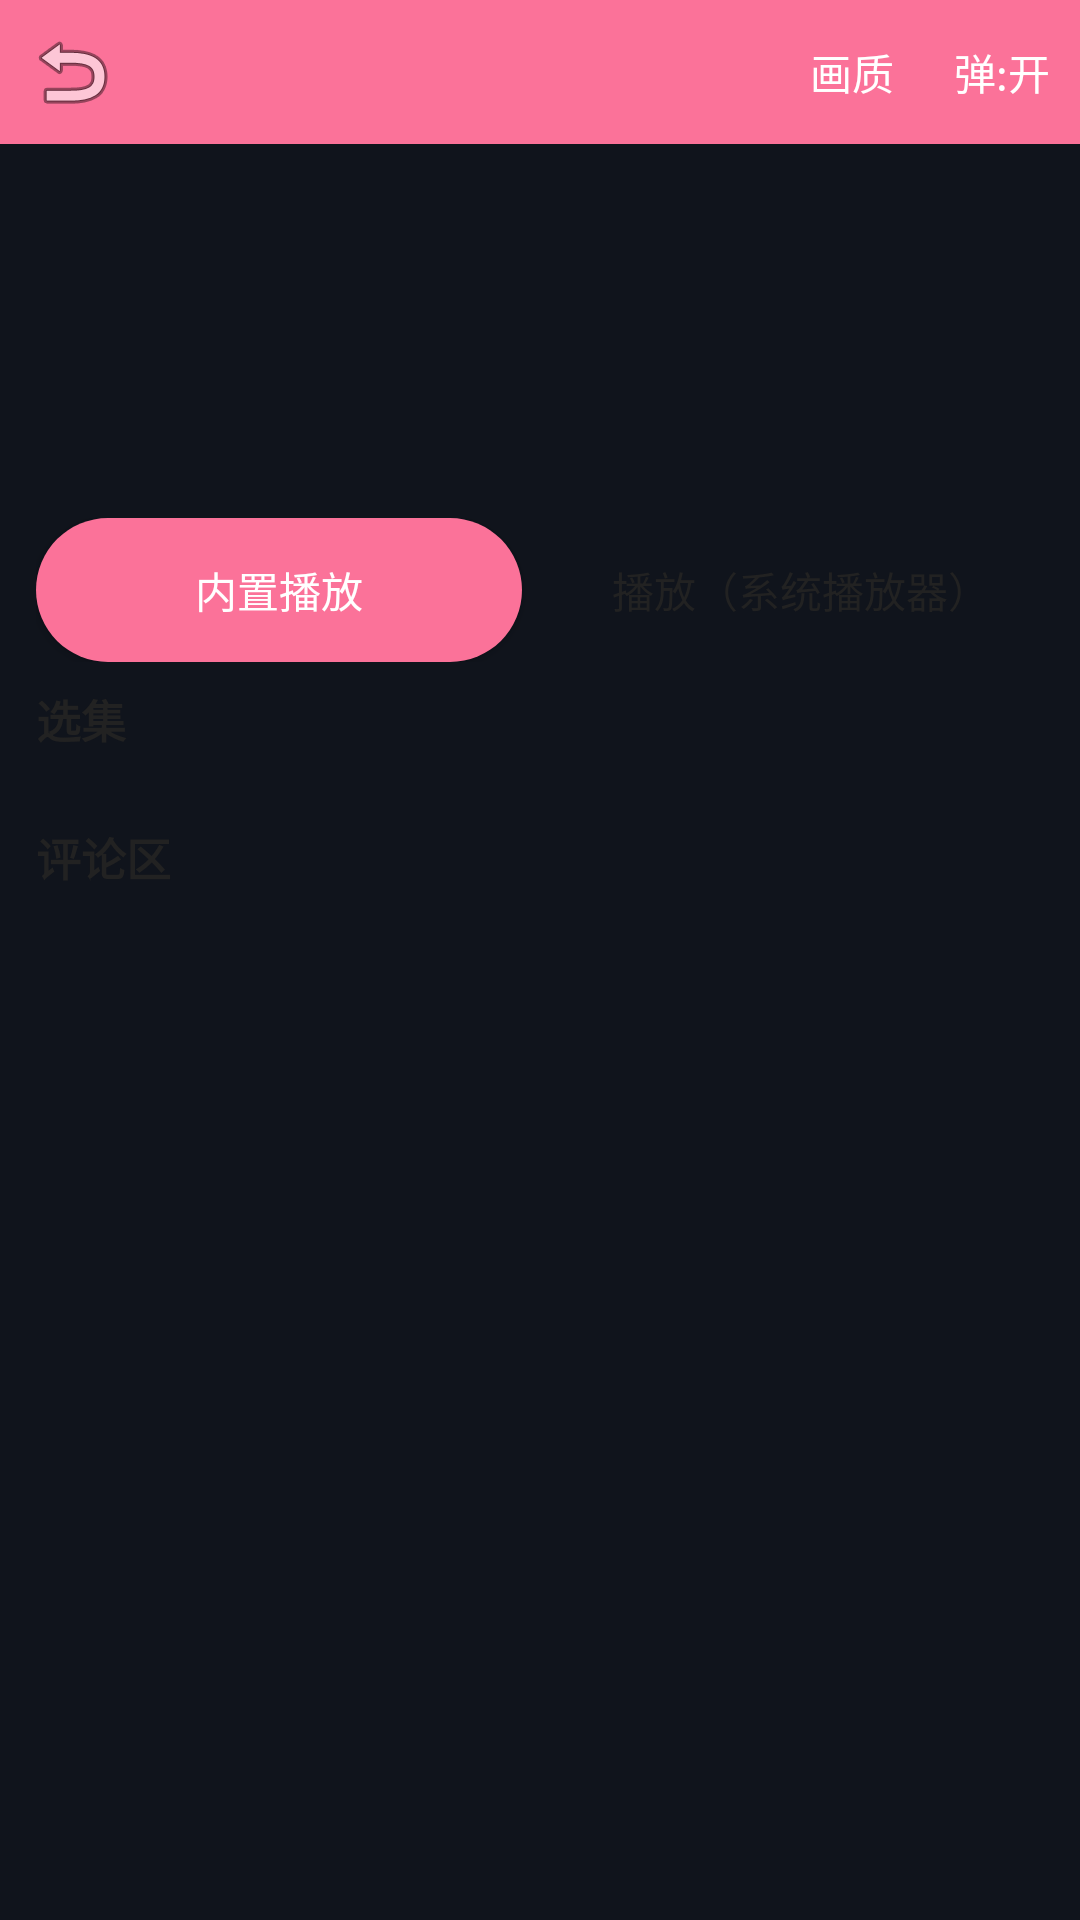

Icon bounding boxes for this 1080 x 1920 phone screenshot, format box=[x1, y1, x2, y2]:
revert: box=[39, 41, 108, 104]
